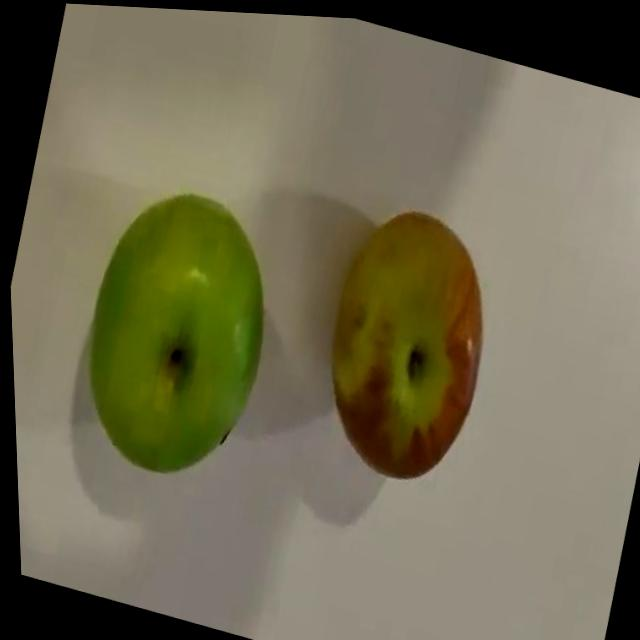Apple: (58, 170, 293, 495), (300, 189, 512, 494)
